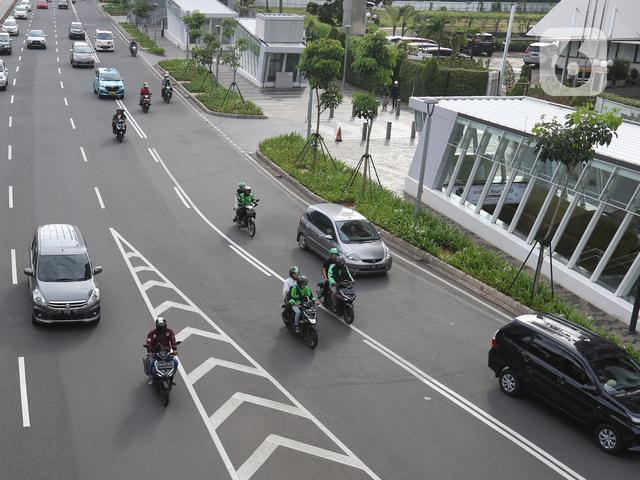car: (490, 313, 640, 453), (28, 223, 100, 331), (298, 202, 393, 281), (94, 68, 125, 99), (71, 41, 95, 69), (95, 28, 114, 52), (26, 28, 47, 48), (69, 20, 85, 39), (3, 17, 18, 37), (12, 6, 29, 20), (1, 35, 11, 53)
motorbike: (144, 319, 177, 409), (279, 270, 317, 348), (316, 248, 354, 324), (232, 181, 257, 236), (114, 109, 128, 144), (162, 74, 172, 106), (140, 83, 150, 113), (130, 39, 138, 55)
